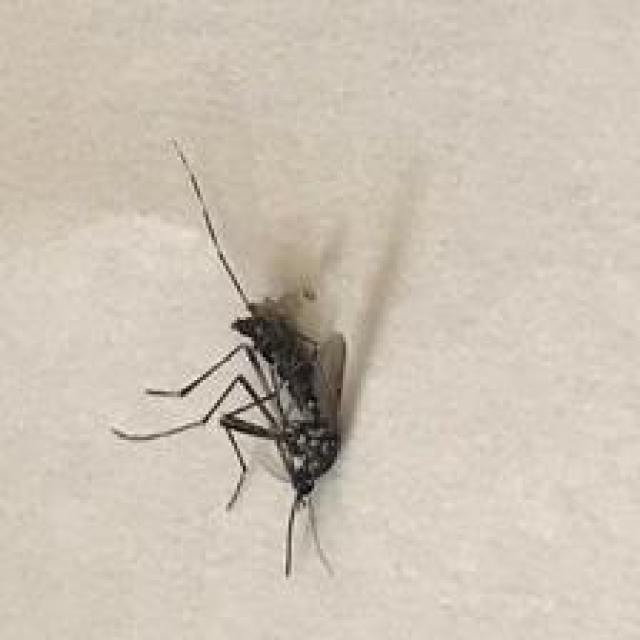Aedes albopictus: (110, 136, 350, 578)
